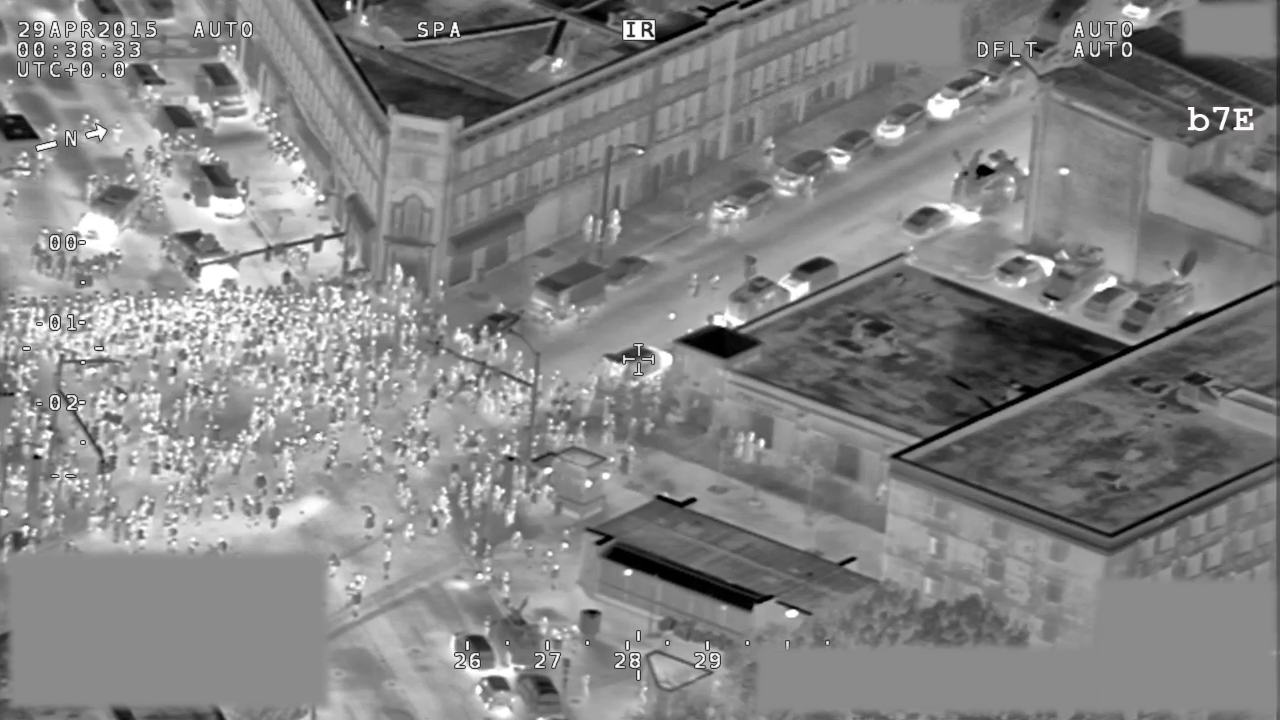vehicle: (1119, 246, 1205, 339), (1021, 1, 1116, 77), (73, 173, 152, 257), (521, 259, 611, 332), (158, 225, 245, 296), (950, 143, 1021, 224), (594, 334, 676, 401), (1041, 243, 1117, 308), (719, 267, 791, 328), (185, 159, 249, 227), (193, 56, 253, 128), (489, 592, 549, 662), (774, 253, 845, 308), (708, 175, 778, 230), (767, 146, 838, 198), (1077, 277, 1140, 327), (455, 308, 523, 354), (926, 77, 993, 121), (867, 101, 929, 148), (118, 57, 172, 110), (445, 627, 498, 680), (152, 97, 203, 151), (993, 250, 1058, 291), (824, 126, 879, 173), (516, 671, 566, 720), (897, 202, 958, 242), (601, 249, 656, 293), (983, 48, 1030, 99), (475, 669, 518, 715)
